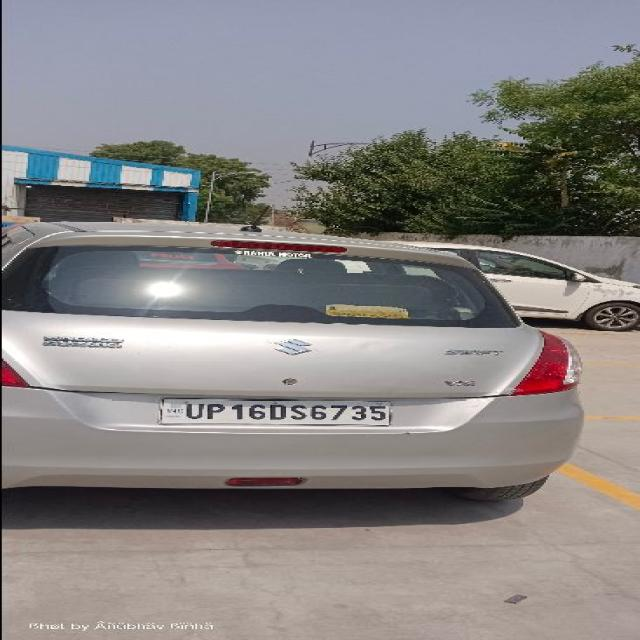license_plate: (156, 397, 392, 426)
